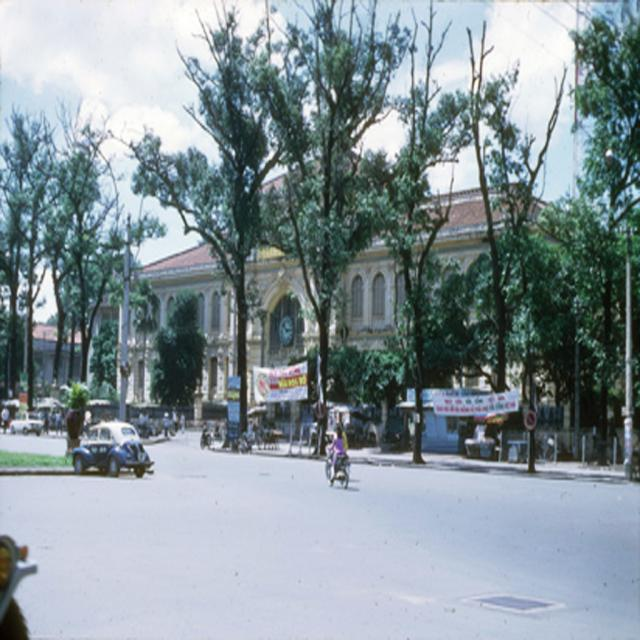car: (66, 418, 146, 479), (7, 410, 47, 436)
